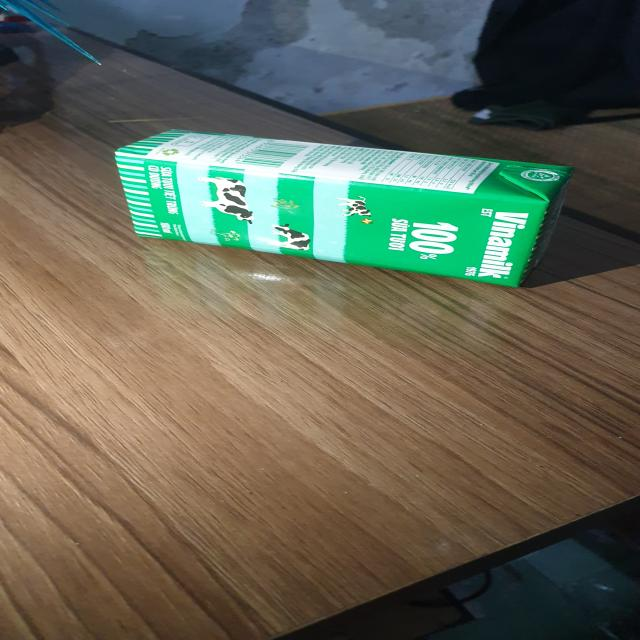Vina: (111, 129, 579, 291)
